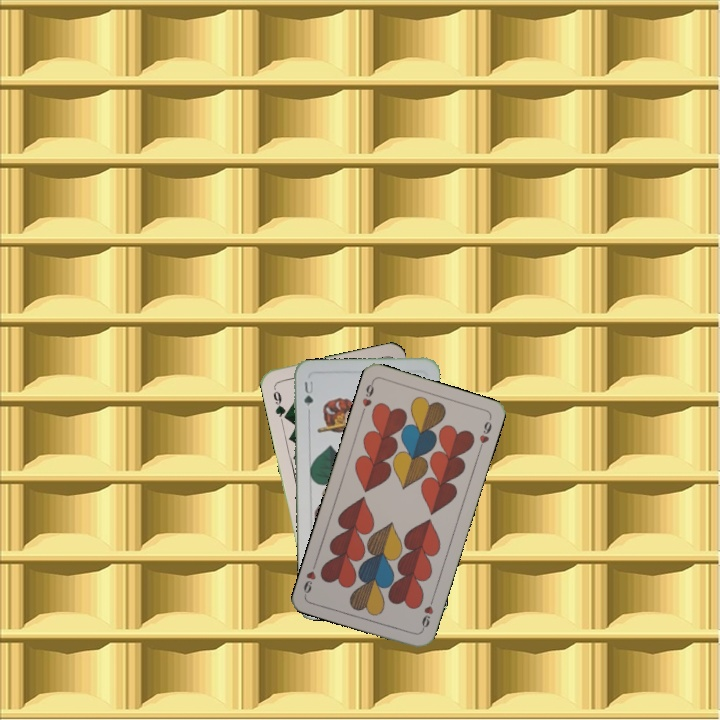G9: (269, 382, 290, 422)
GU: (300, 377, 315, 409)
H9: (357, 377, 376, 417), (418, 594, 436, 634)
